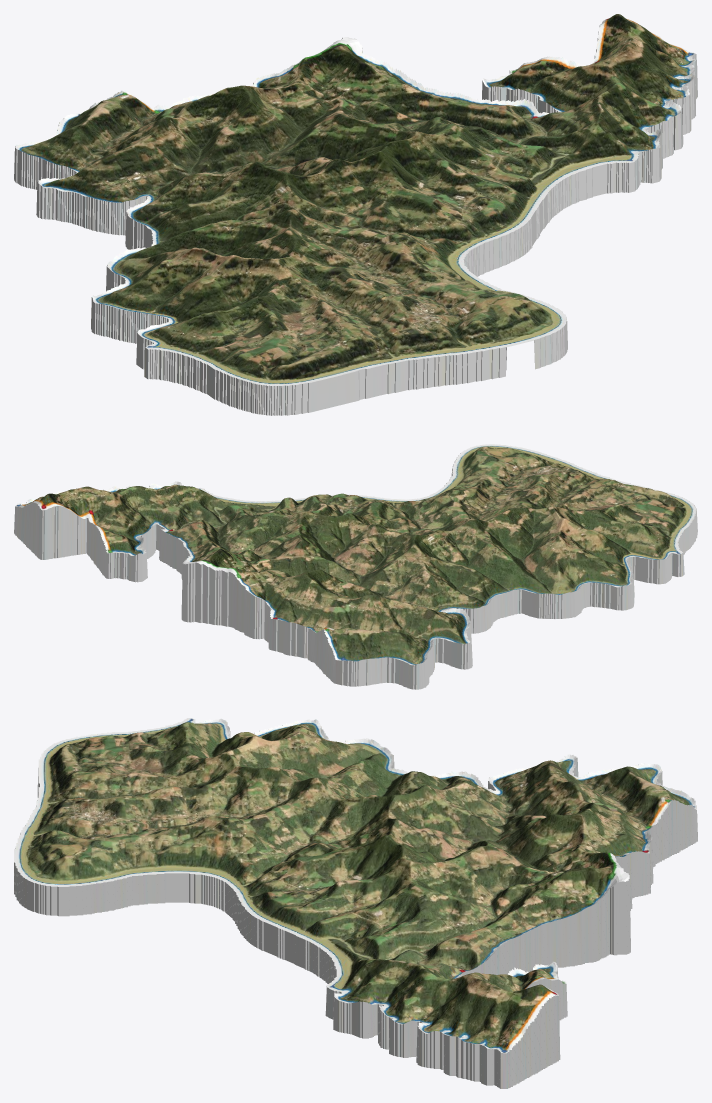
3 views of the same model, one above another, from view 1: azimuth 30°, elevation 25°; view 2: azimuth 150°, elevation 25°; view 3: azimuth 270°, elevation 25° (orthographic). The views are drawn at different scales.
Size of the model in its own units: 0.9999 by 0.1042 by 0.8437.
1 material, 1 textured.
